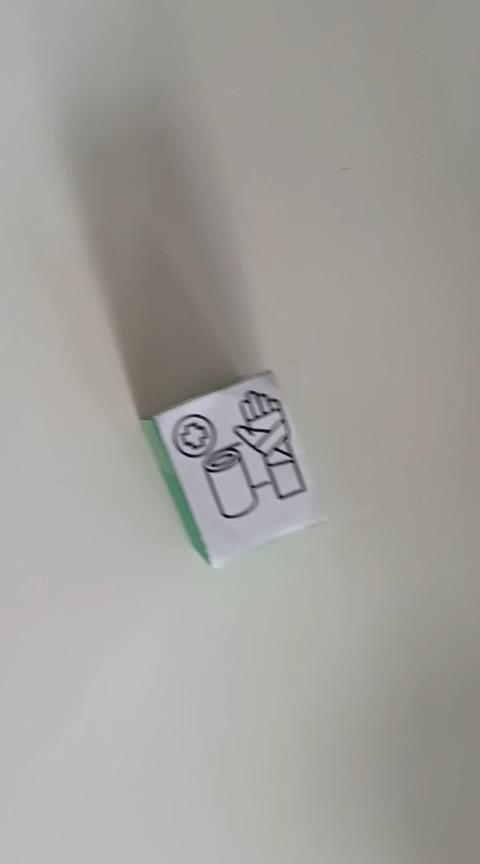Bandages: (139, 368, 329, 569)
